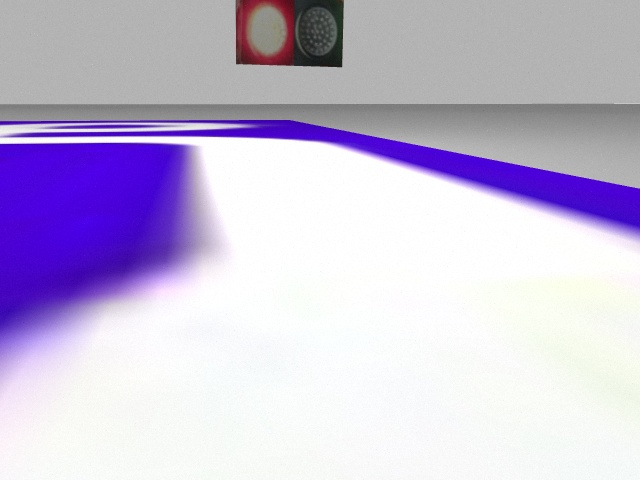red: (234, 1, 293, 67)
